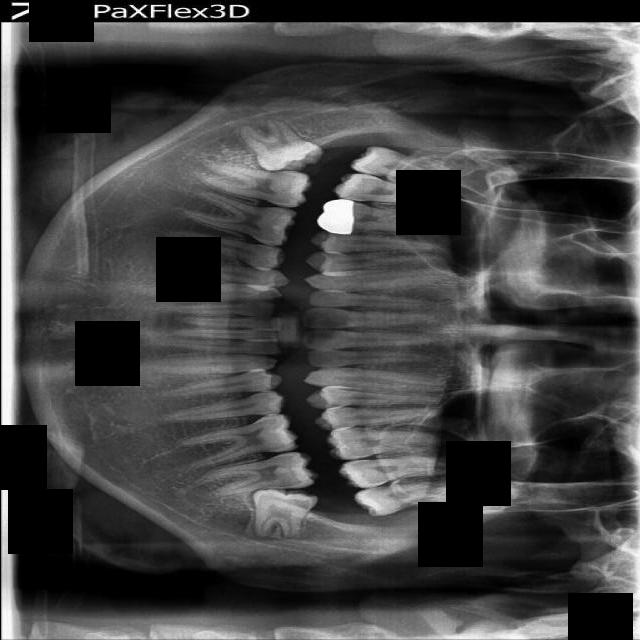3M ESPE Implant: (348, 143, 466, 187)
52: (315, 198, 355, 235)
73: (22, 622, 32, 632)
BioHorizons Implant: (336, 446, 468, 493)
BioLife Implant: (352, 477, 462, 519)
Biomet 3i Implant: (248, 484, 319, 542)
Blue Sky Bio Implant: (200, 448, 319, 506)
Caries: (332, 171, 455, 210)
Implant: (197, 147, 314, 212)
Keystone Dental Implant: (229, 104, 325, 192)
